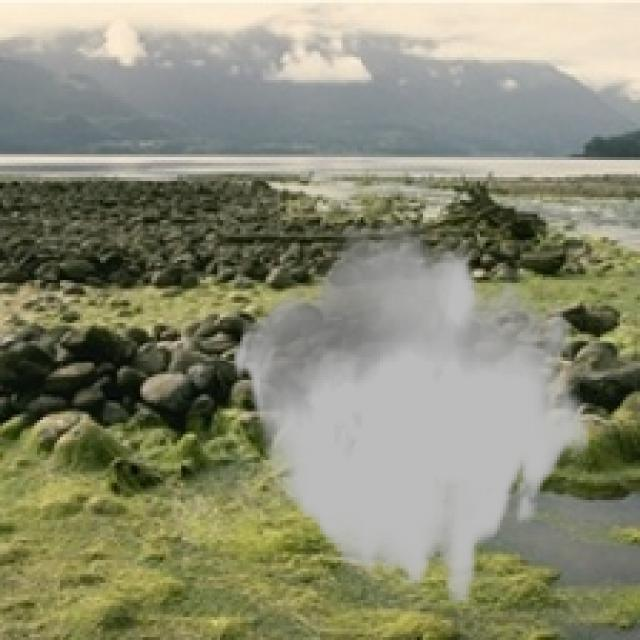Smoke: (232, 223, 592, 603)
